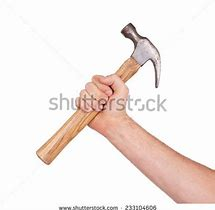hammer: (35, 21, 163, 166)
